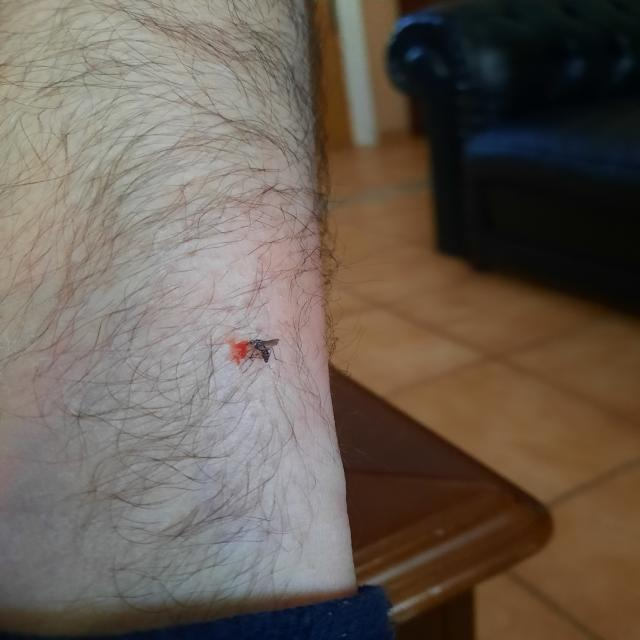albopictus: (234, 334, 288, 378)
